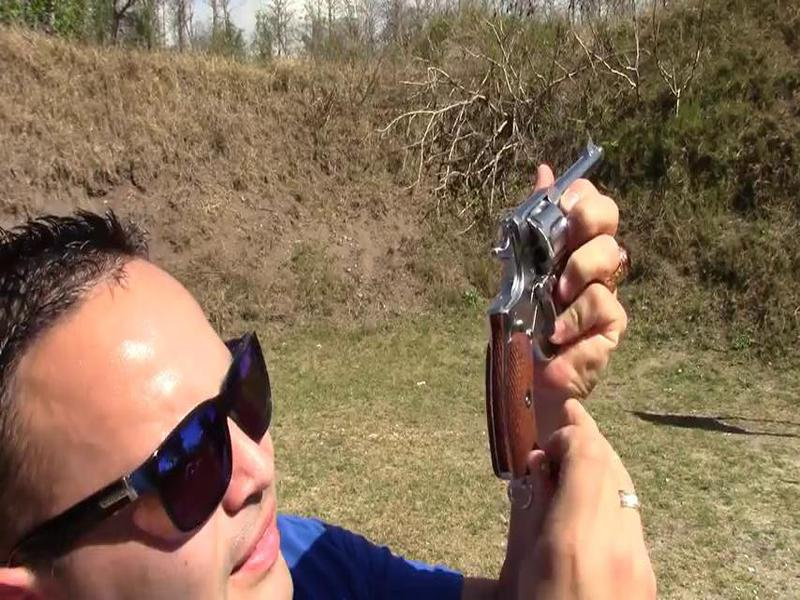Revolver: (468, 99, 611, 491)
